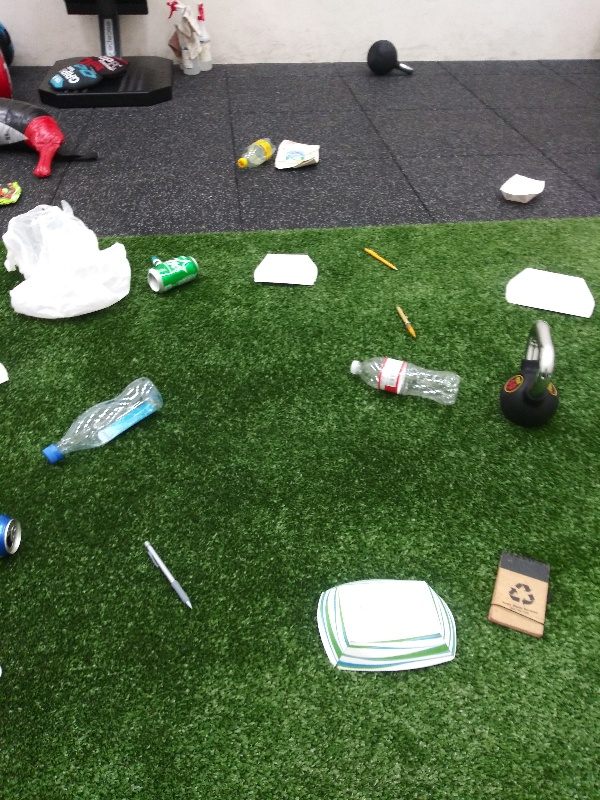bag: (272, 135, 324, 173), (1, 178, 23, 215)
bottle: (39, 376, 163, 469), (342, 354, 462, 411), (229, 132, 282, 172)
can: (144, 249, 205, 298), (1, 508, 28, 563)
plate: (315, 575, 463, 683), (499, 265, 597, 325), (249, 247, 324, 289), (493, 169, 549, 209)
